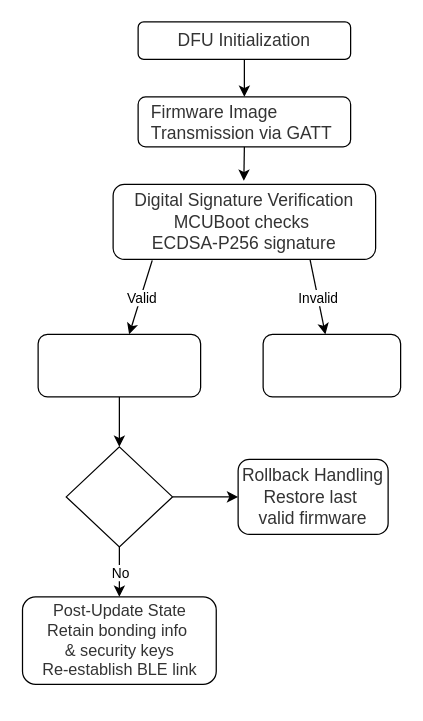
The diagram is 423 pixels wide and 721 high, and some of its shapes have lost their labels. Here are the shapes that lost their labels. From the top down, the centre of each, then its label:
(119,365): Image Swap Swap Slot0 ↔ Slot1
(331,365): Image Rejection Revert to Slot0
(118,496): Crash or Power Loss?
